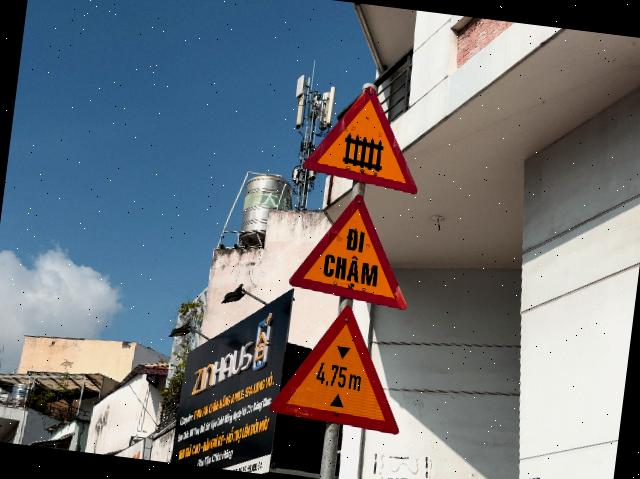chieu-cao-tinh-khong-thuc-te: (268, 297, 416, 436)
di-cham: (286, 185, 419, 311)
noi-giao-nhau-voi-duong-sat-co-rao-chan: (300, 78, 430, 194)
